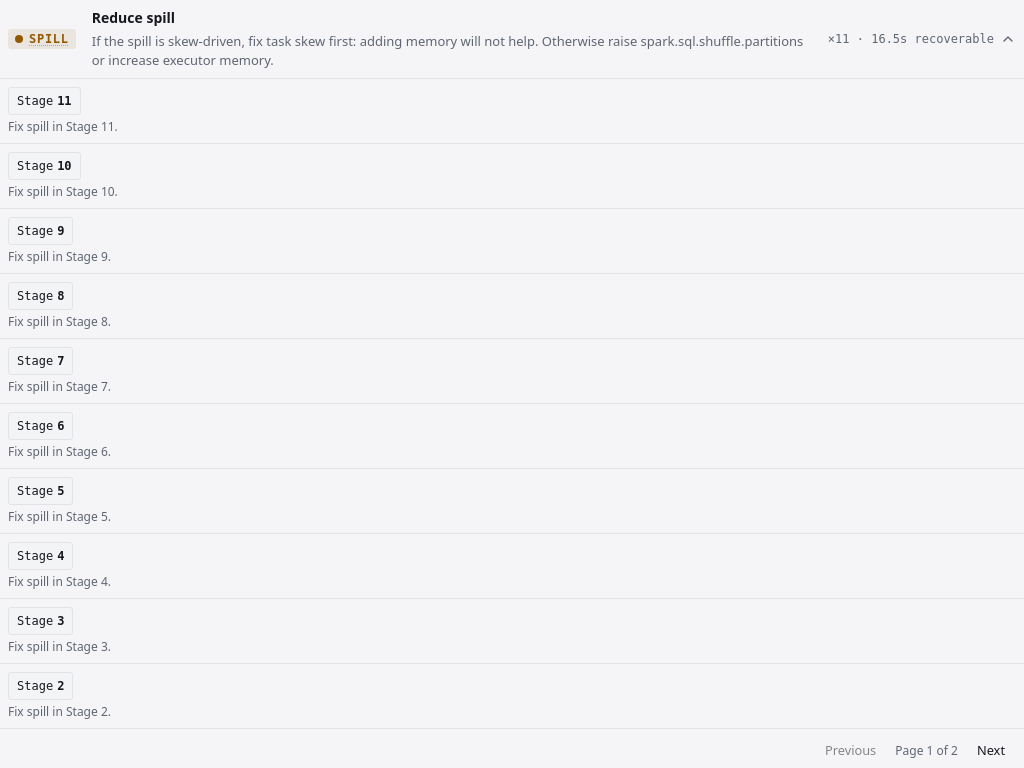
Test case: TypeGroupRow pagination › paginates an expanded group of more than PAGE_SIZE (10) findings, 10-per-page, with Previous/Next controls
Check: the text "Page 1 of 2" is shown, box [895,743,958,759]
Click the button "Next" at point(991, 751), box [966,737,1016,765]
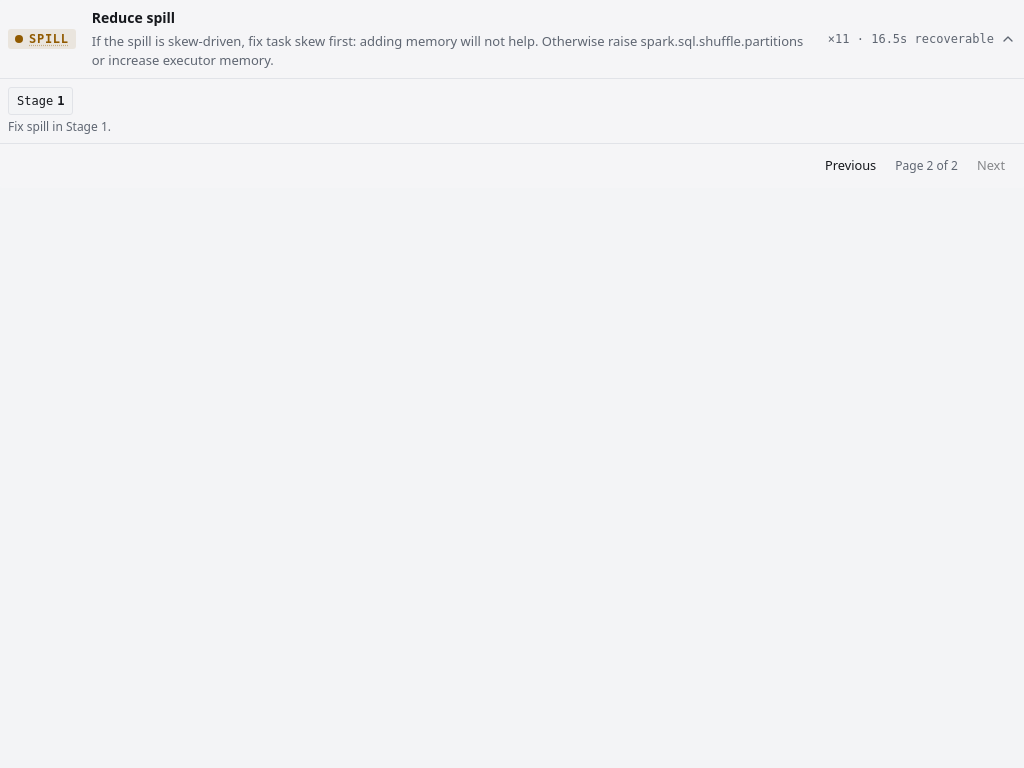
Check: the number of rows with test id "fix-these-first-row" is 1, box [0,78,1023,143]
Check: the text "Page 2 of 2" is shown, box [895,158,958,174]
